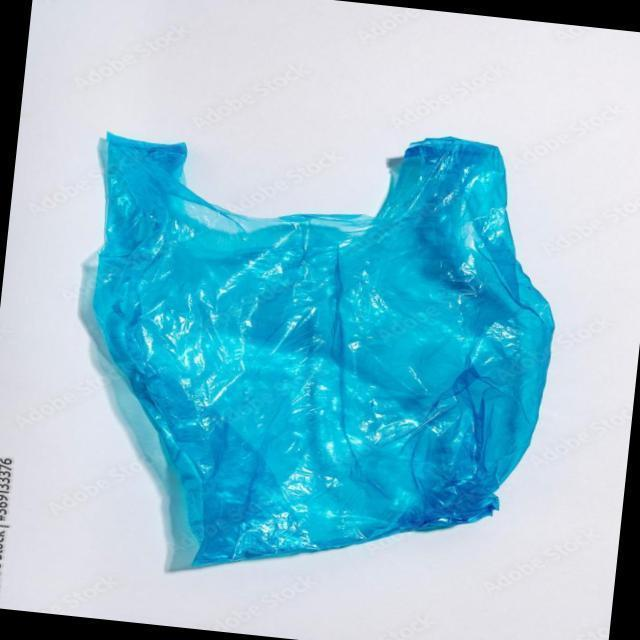Plastic_Bag: (19, 114, 566, 585)
